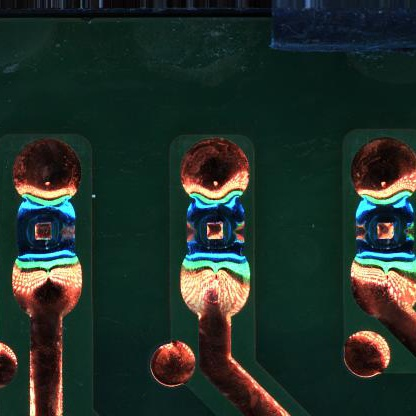spot: (15, 194, 79, 260), (186, 198, 247, 259), (355, 198, 416, 259)
